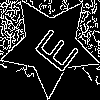E: (26, 20, 80, 75)
